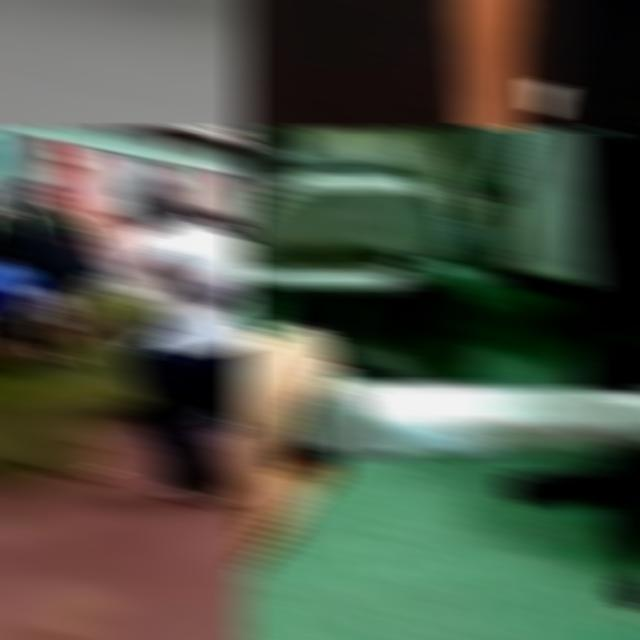Knife: (274, 362, 640, 468), (122, 300, 221, 357)
Knife_Handle: (122, 284, 250, 360)
